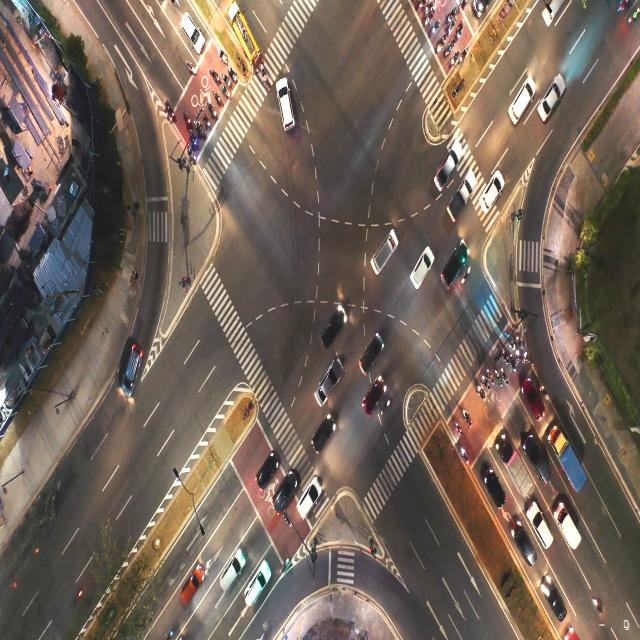bus: (241, 22, 252, 44)
car: (254, 566, 265, 596), (417, 255, 429, 281), (365, 345, 378, 367), (325, 368, 337, 390), (544, 94, 555, 116), (452, 191, 464, 210), (330, 322, 341, 342), (513, 97, 524, 117), (380, 244, 392, 262), (438, 160, 449, 178), (306, 490, 314, 514), (494, 484, 504, 503), (265, 464, 274, 484), (317, 431, 327, 449), (281, 101, 289, 123), (127, 359, 137, 376), (369, 390, 378, 408), (486, 189, 496, 205), (189, 578, 200, 592), (450, 261, 457, 282), (522, 540, 530, 558), (537, 455, 545, 473), (537, 521, 545, 539), (281, 486, 287, 505), (529, 398, 539, 409), (228, 566, 235, 581), (384, 254, 385, 256)
motorcycle: (382, 399, 392, 420), (464, 403, 472, 429), (464, 267, 474, 283), (454, 417, 461, 437), (509, 358, 518, 372), (438, 36, 446, 51), (260, 73, 270, 85), (488, 367, 494, 386), (483, 376, 490, 392), (502, 354, 511, 366), (476, 387, 485, 398), (462, 450, 469, 464), (496, 372, 502, 386), (463, 48, 468, 61), (514, 348, 522, 356), (508, 334, 512, 348), (446, 45, 452, 54), (504, 374, 509, 384), (230, 67, 235, 77), (223, 86, 228, 96), (221, 54, 226, 62), (204, 115, 208, 125), (454, 50, 458, 59), (187, 112, 190, 124), (200, 128, 203, 138), (544, 387, 546, 397), (191, 68, 194, 74)
truck: (515, 464, 526, 486), (570, 519, 577, 547), (567, 459, 576, 480)
